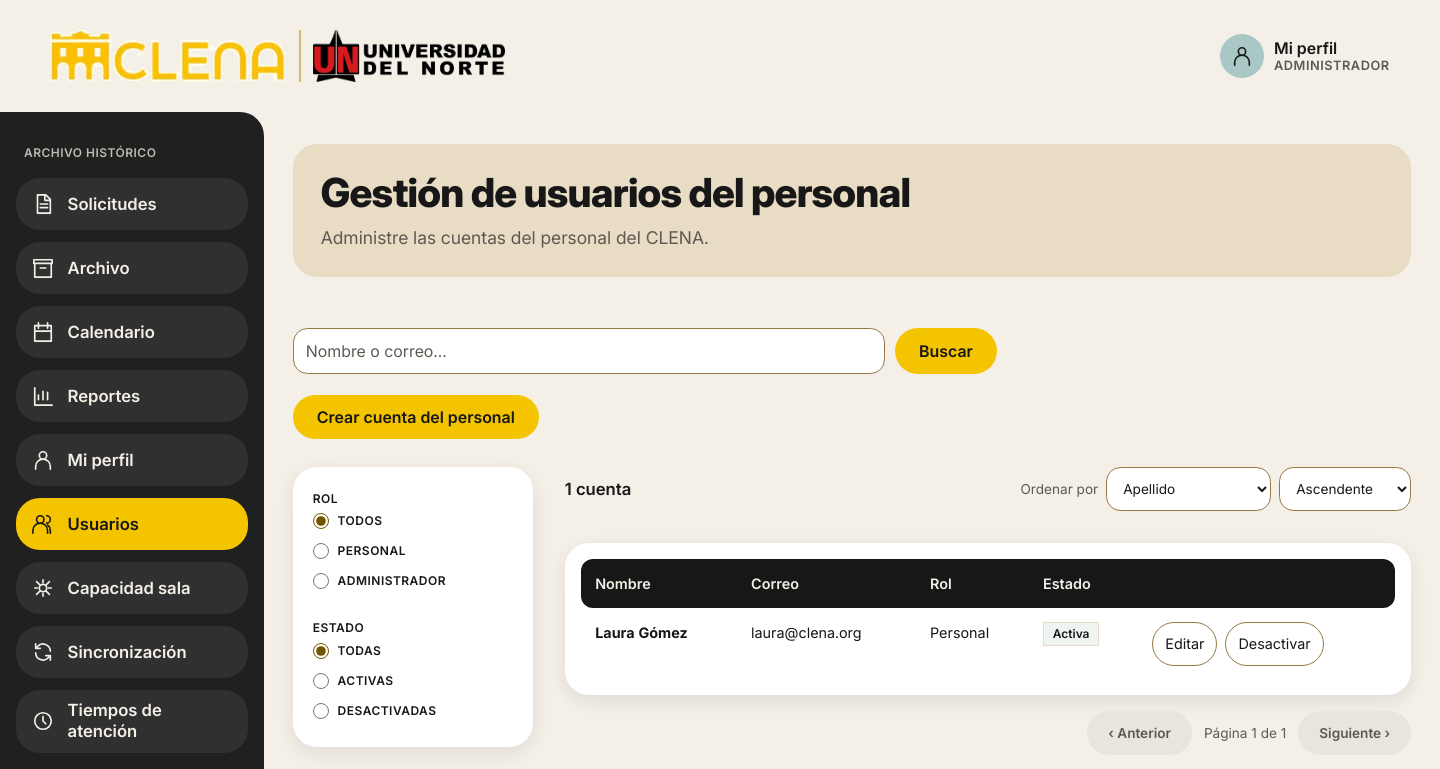
StaffUsersPage (HU-05) › asks for confirmation before deactivating and then sends active=false
Click the button with aria-label "Desactivar la cuenta de Laura Gómez" at [1275, 644], box [1226, 622, 1324, 666]
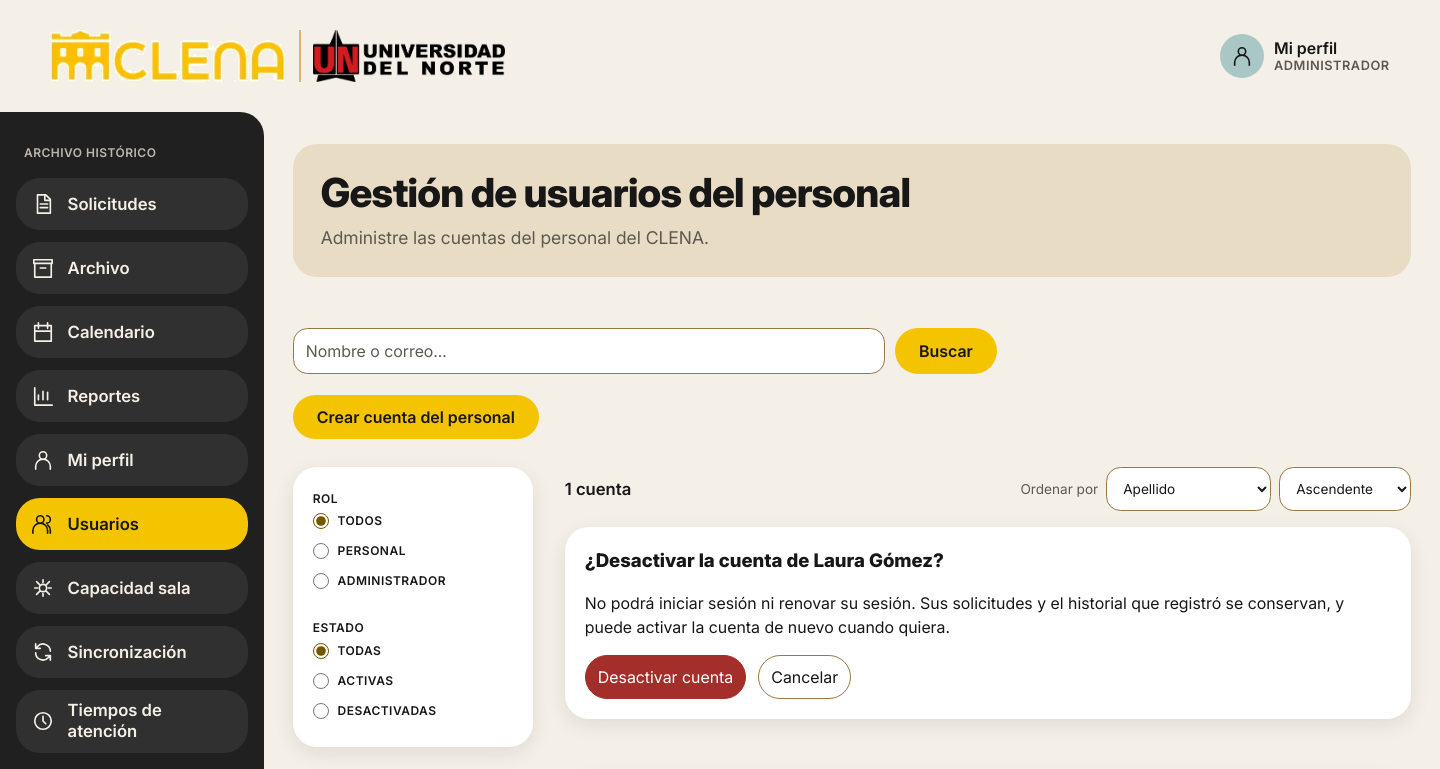
Click the button "Desactivar cuenta" at [666, 677], box [585, 655, 746, 699]
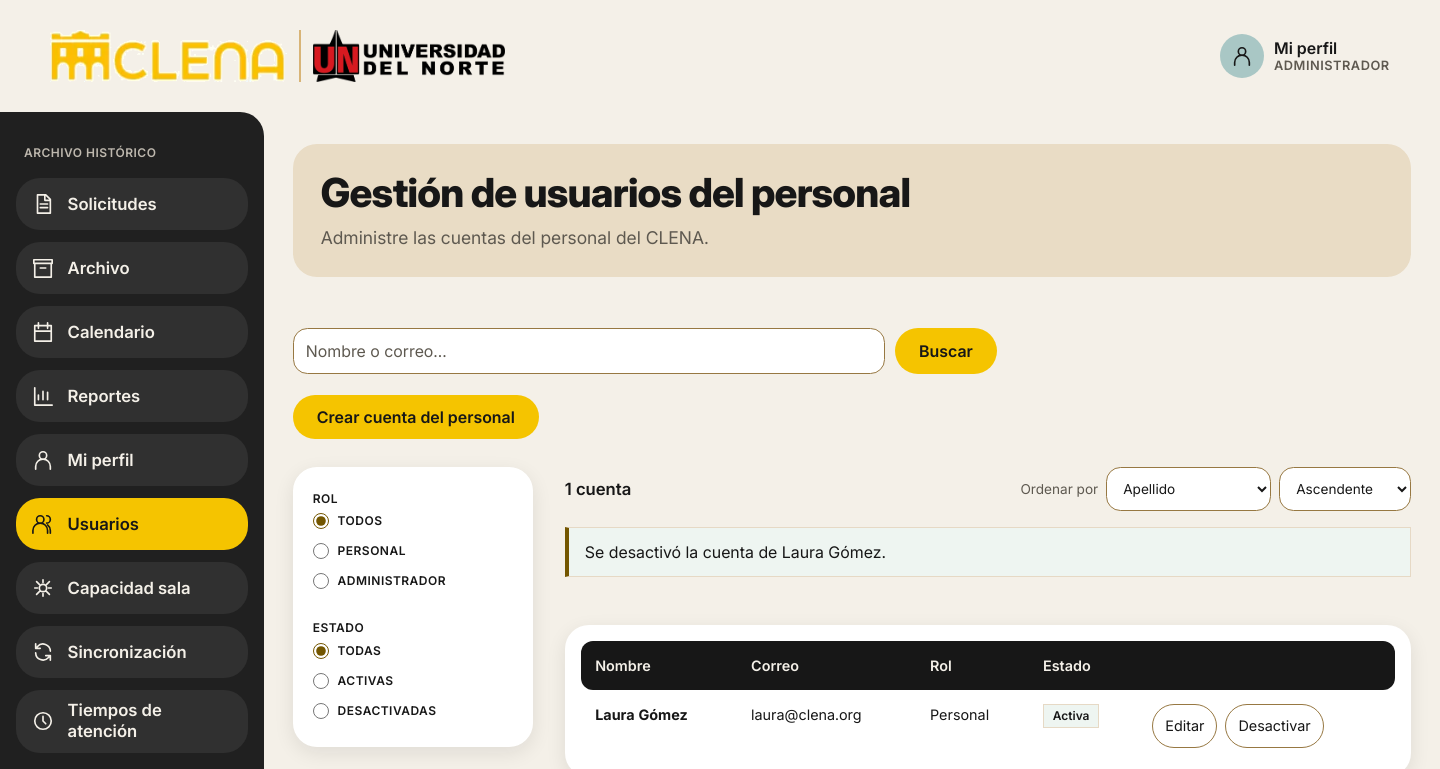
Expected: the text "Se desactivó la cuenta de Laura Gómez." is shown, [565, 527, 1411, 577]
